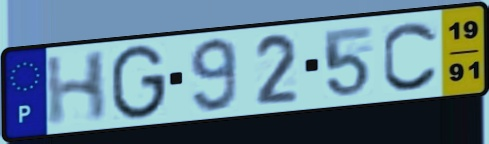2: (252, 32, 301, 107)
5: (321, 23, 376, 99)
9: (187, 35, 240, 115)
C: (381, 19, 442, 93)
G: (108, 42, 169, 122)
H: (42, 48, 110, 129)
